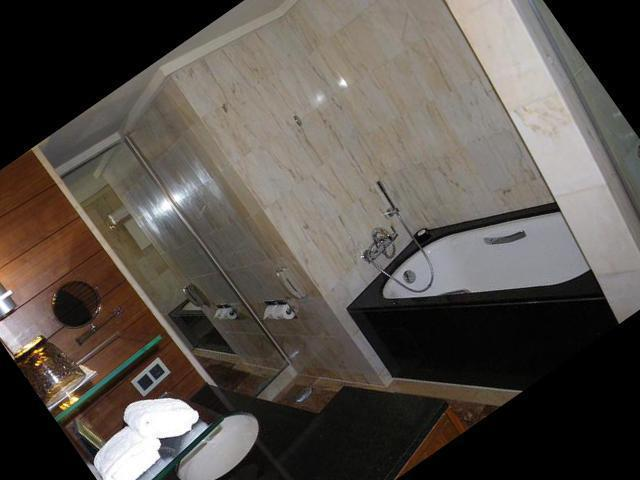Lavamanos: (113, 380, 289, 480)
